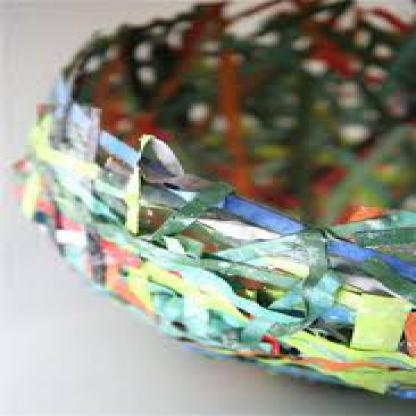paper: (11, 0, 414, 400)
